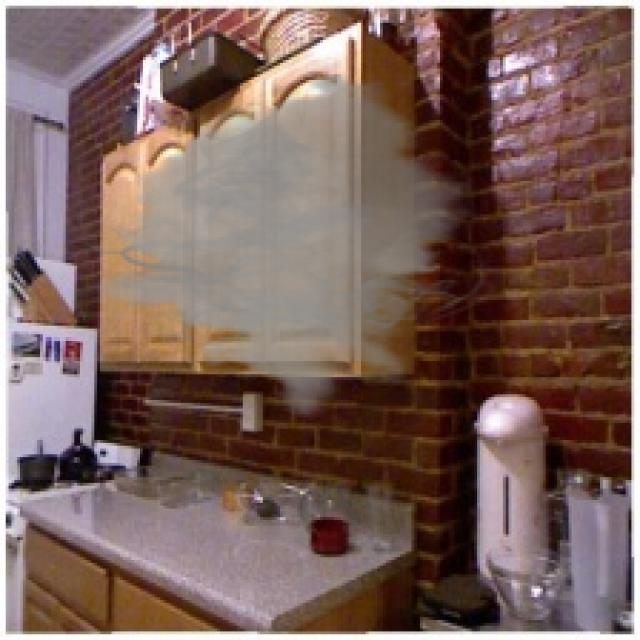smoke: (80, 71, 506, 420)
